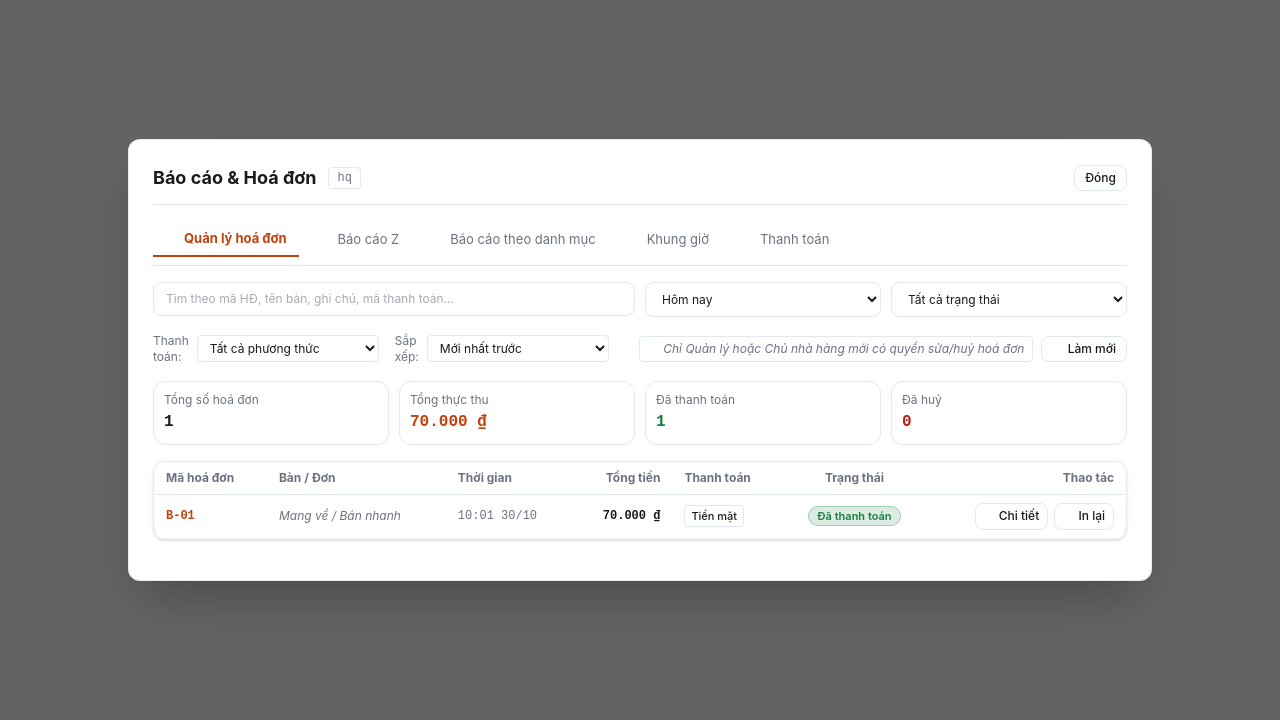
Test: StoreReportsModal.vue › renders Invoices tab by default and supports tab switching to Z-Report, Categories, Hourly, Payments
Expected: the element with test id "invoices-panel" is shown, [153, 282, 1127, 556]
Click the button with test id "tab-zreport": (359, 239) [306, 221, 411, 257]
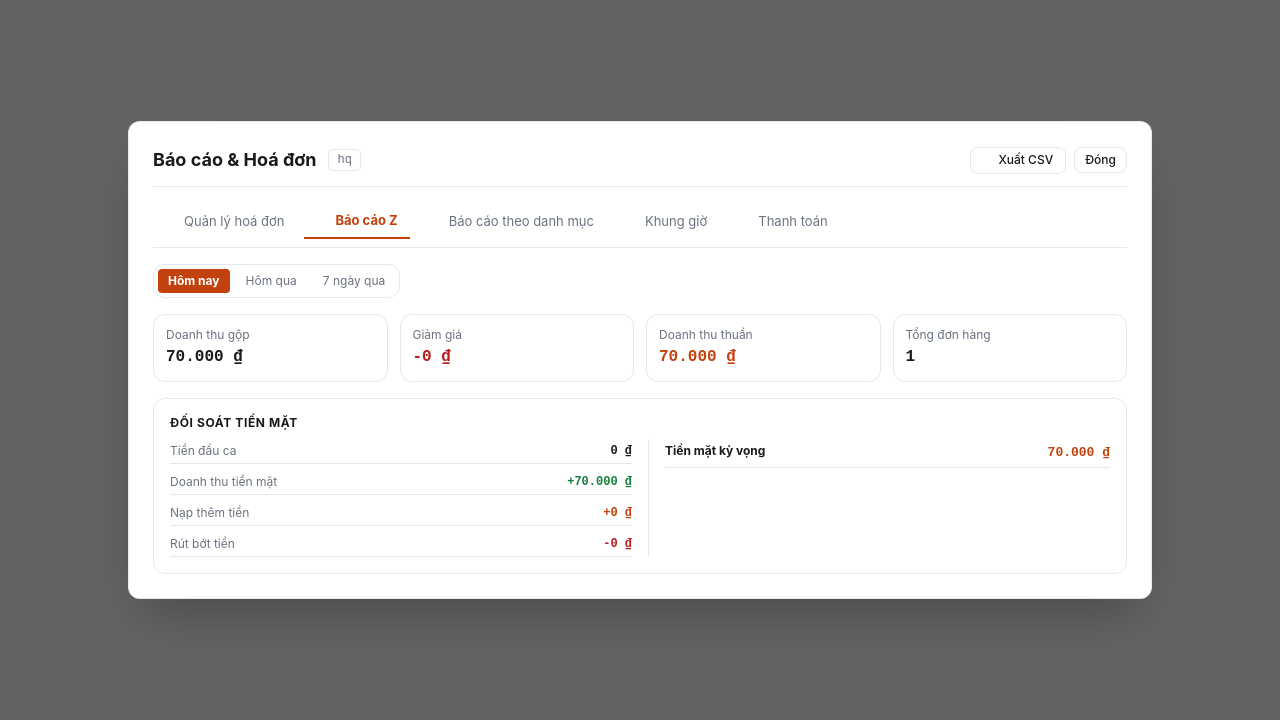
Now the element with test id "z-report-panel" is shown, box [153, 314, 1127, 574]
Click the button with test id "tab-categories": (512, 221) [418, 203, 606, 239]
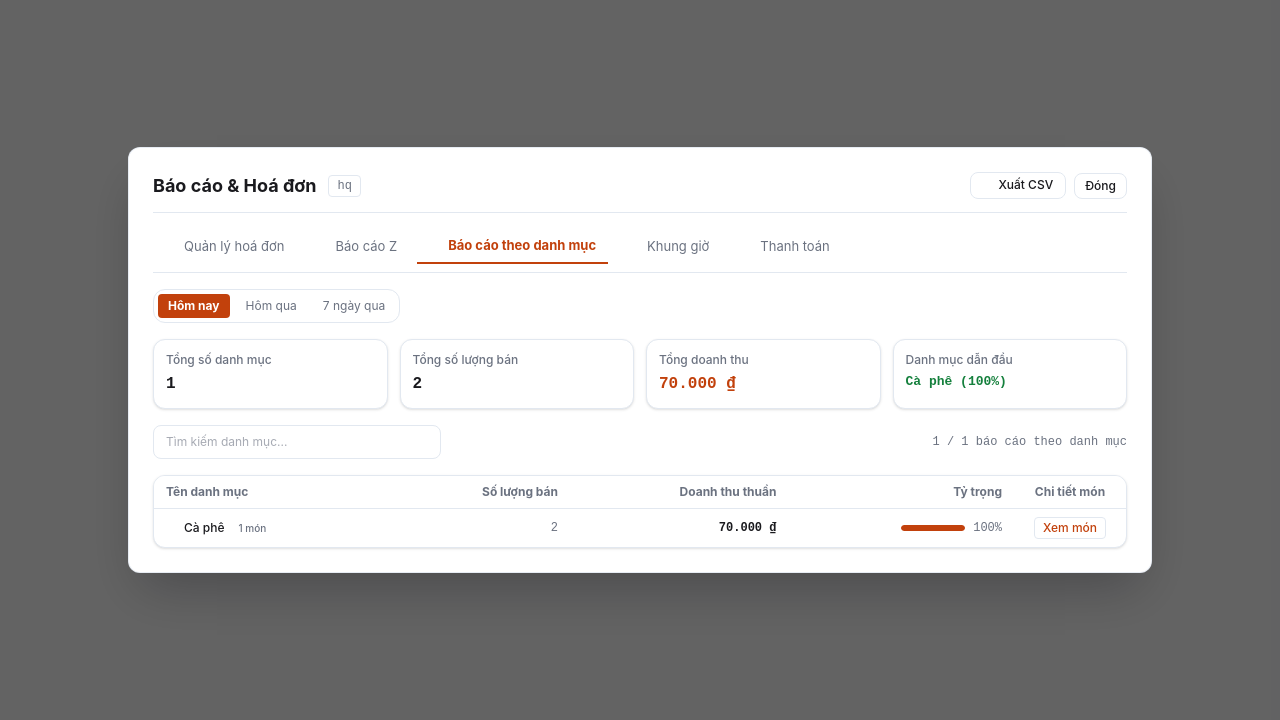
Now the element with test id "categories-panel" is shown, box [153, 339, 1127, 548]
Click the button with test id "tab-hourly": (669, 247) [616, 229, 721, 264]
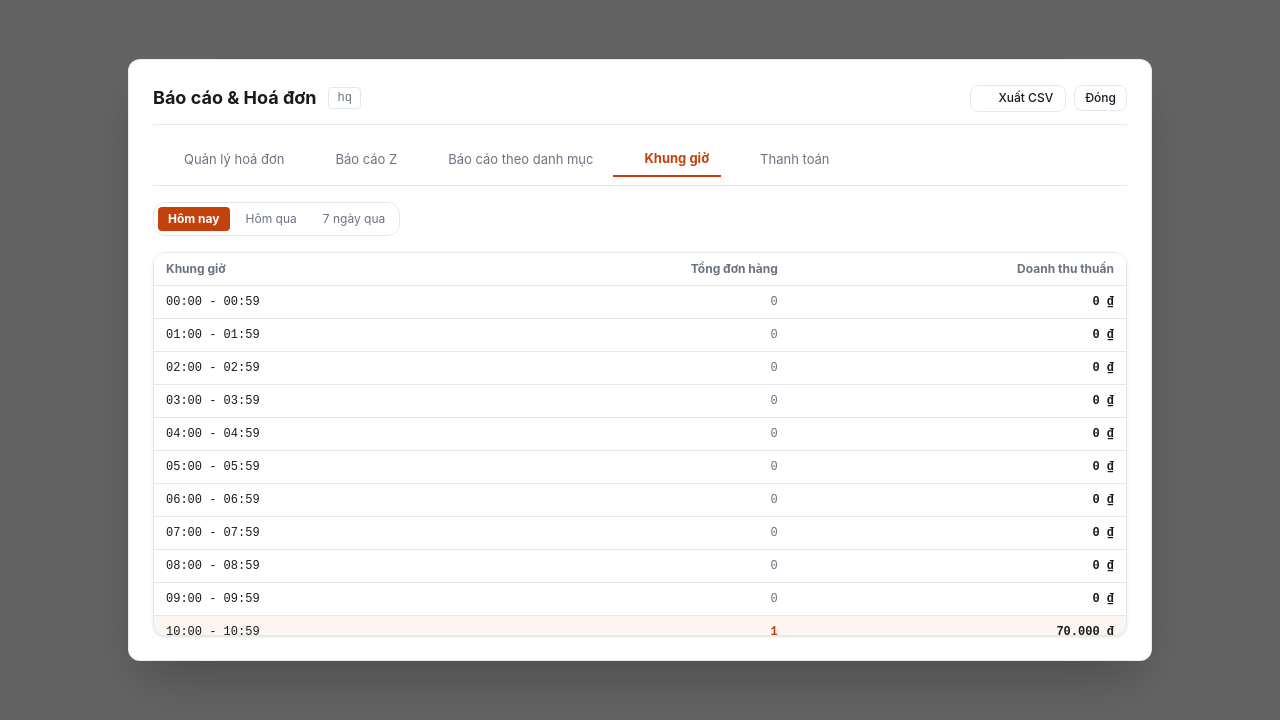
Now the element with test id "hourly-panel" is shown, box [153, 252, 1127, 636]
Click the button with test id "tab-payments": (785, 159) [729, 141, 842, 177]
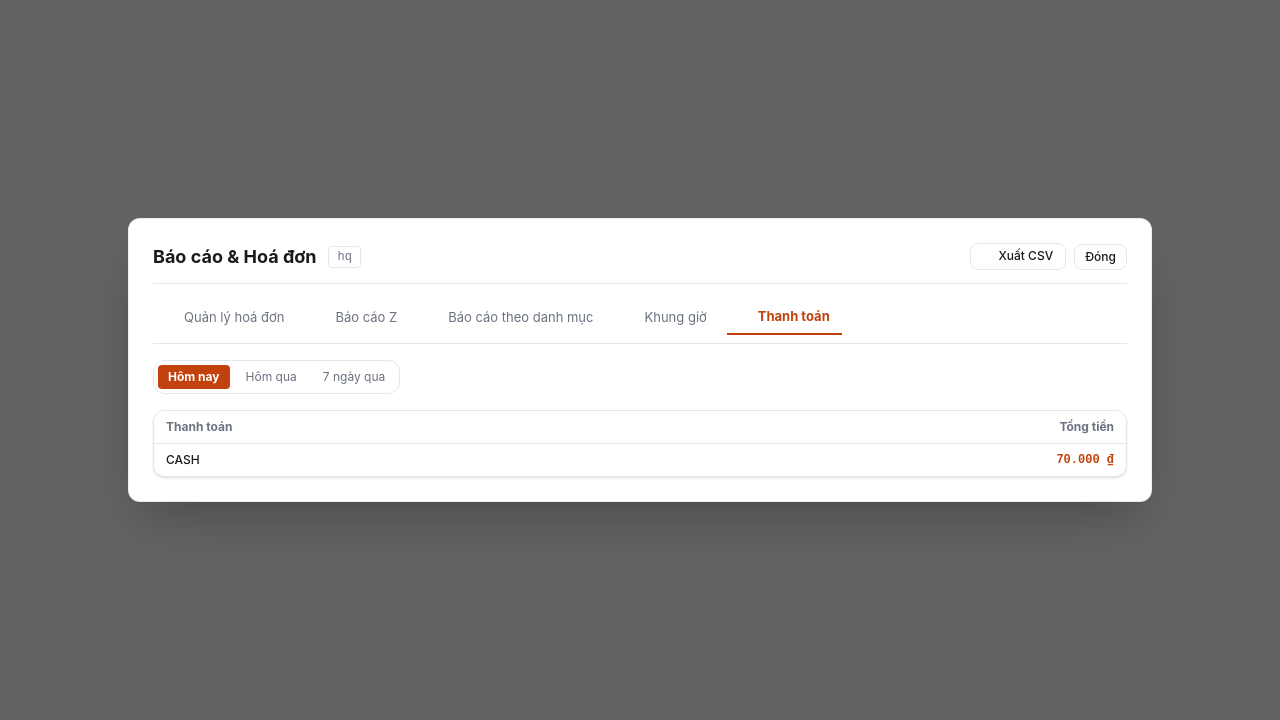
Now the element with test id "payments-panel" is shown, box [153, 410, 1127, 477]
